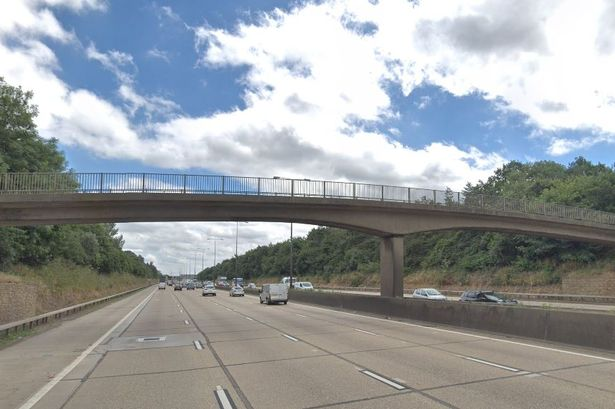bridge: (1, 172, 615, 250)
